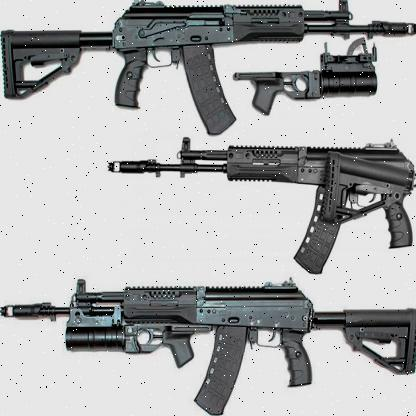rifle: (2, 1, 406, 141), (4, 283, 416, 411), (101, 142, 413, 288)
